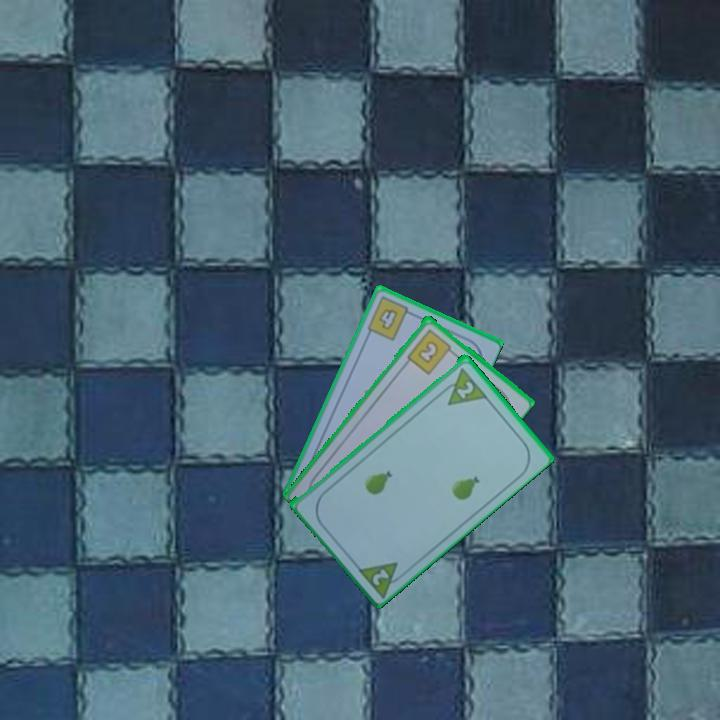2b: (403, 325, 458, 377)
2p: (353, 558, 410, 600), (453, 377, 477, 401)
4b: (363, 293, 417, 343)
